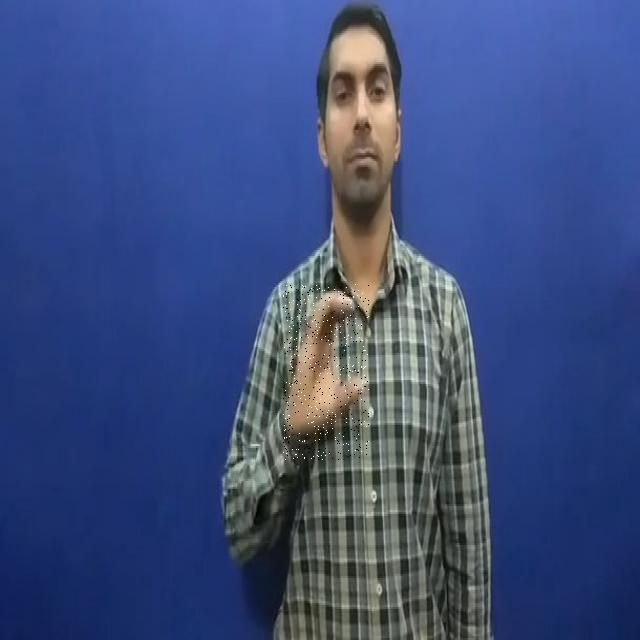pepper: (283, 284, 369, 460)
